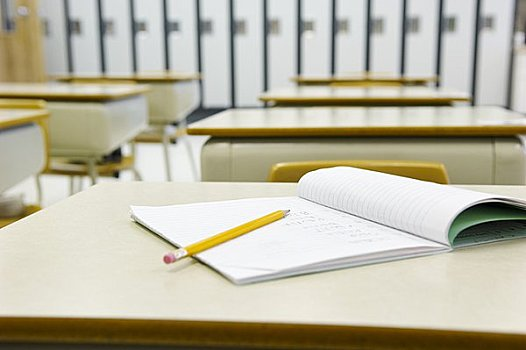book: (125, 164, 526, 288)
